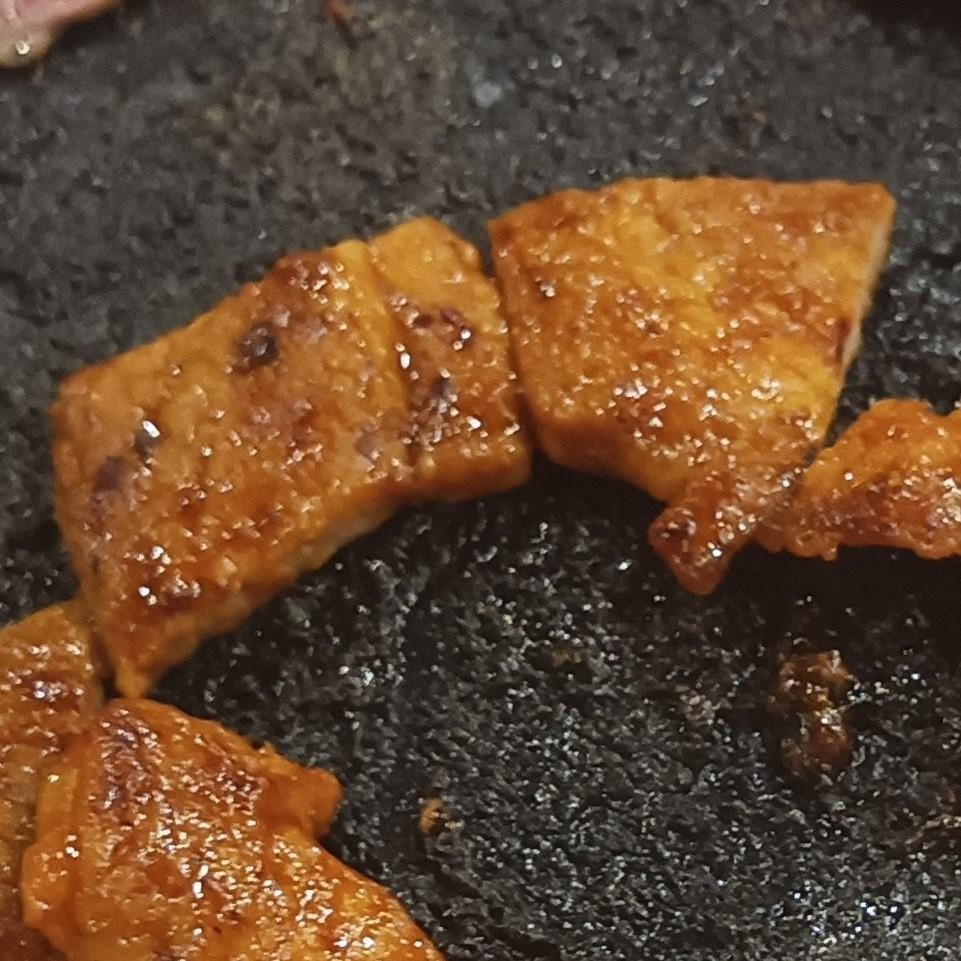Well-Cooked: (47, 216, 539, 703), (484, 176, 960, 598), (0, 600, 450, 960)
